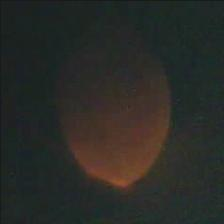fertile: (54, 12, 172, 186)
